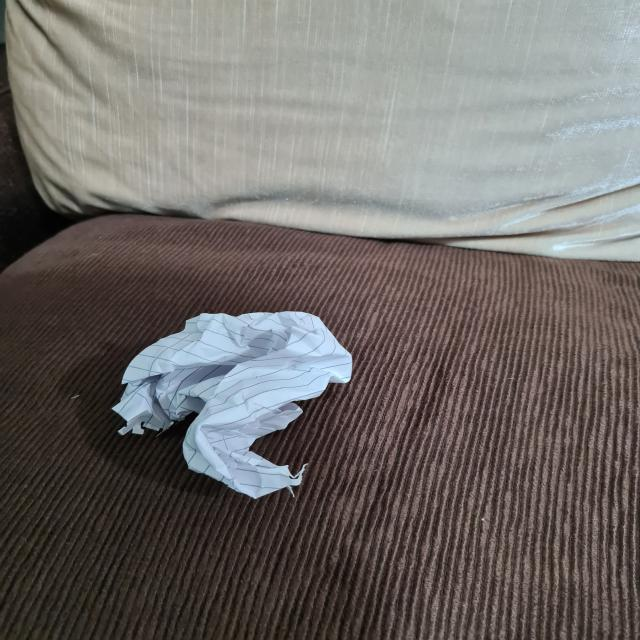Paper: (117, 310, 359, 498)
